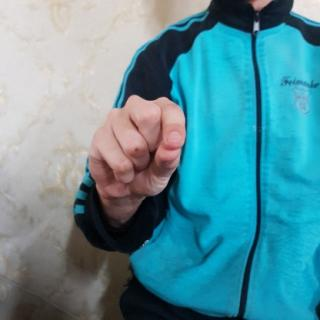FAA: (85, 90, 191, 206)
